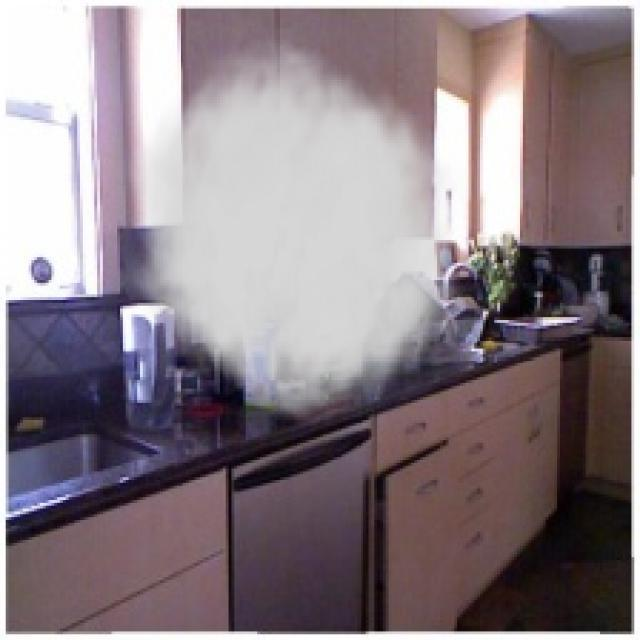Smoke: (126, 29, 472, 438)
